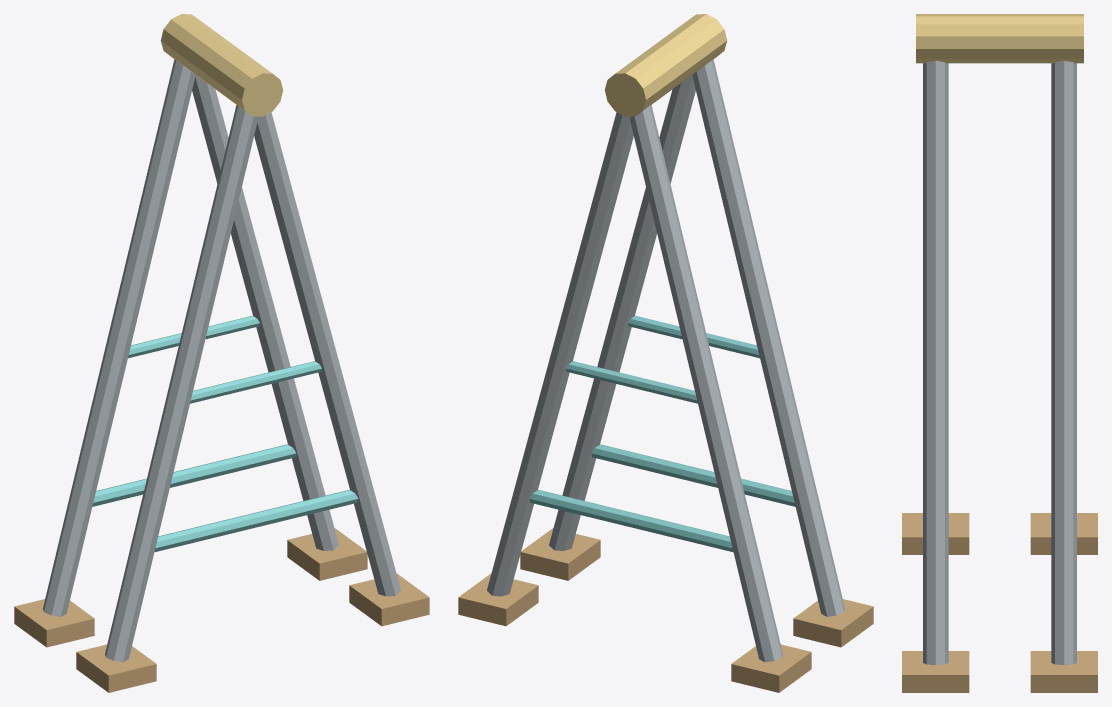
File: noria_soporte.glb
3 views of the same model, side by side, from view 1: azimuth 30°, elevation 25°; view 2: azimuth 150°, elevation 25°; view 3: azimuth 270°, elevation 25° (orthographic). The views are drawn at different scales.
Parts seen in each view (by area): view 1: noria_soporte; view 2: noria_soporte; view 3: noria_soporte.
Part boxes in pixels (x1,y1,x2,y2): noria_soporte: (14, 14, 429, 692); noria_soporte: (458, 14, 873, 692); noria_soporte: (902, 14, 1097, 692).
Bounding box in the file's own units: 3.88 × 6.65 × 1.98.
